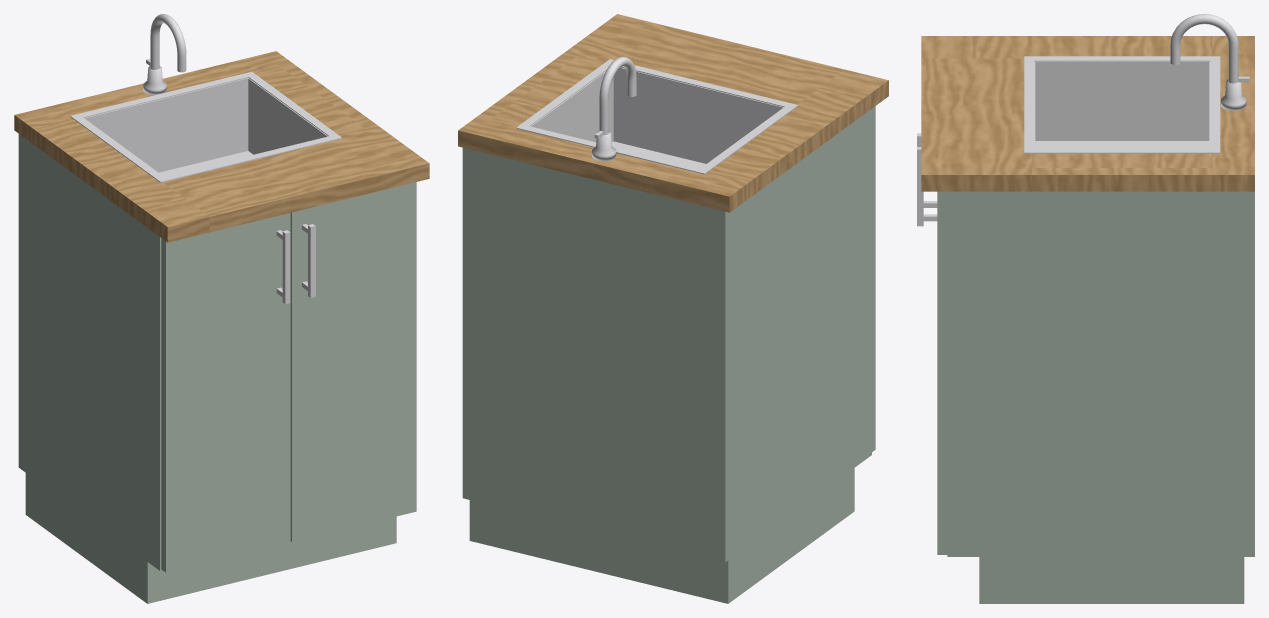
3 views of the same model, side by side, from view 1: azimuth 30°, elevation 25°; view 2: azimuth 150°, elevation 25°; view 3: azimuth 270°, elevation 25° (orthographic). The views are drawn at different scales.
Visible parts, largest first — view 1: Kitchen sink unit; view 2: Kitchen sink unit; view 3: Kitchen sink unit.
Boxes of the visible parts, x1,y1,x2,y2 form: Kitchen sink unit: (14,14,429,603); Kitchen sink unit: (458,14,888,603); Kitchen sink unit: (917,14,1254,603).
Bounding box in the file's own units: 0.62 × 1.09 × 0.637.
3 materials, 1 textured.
